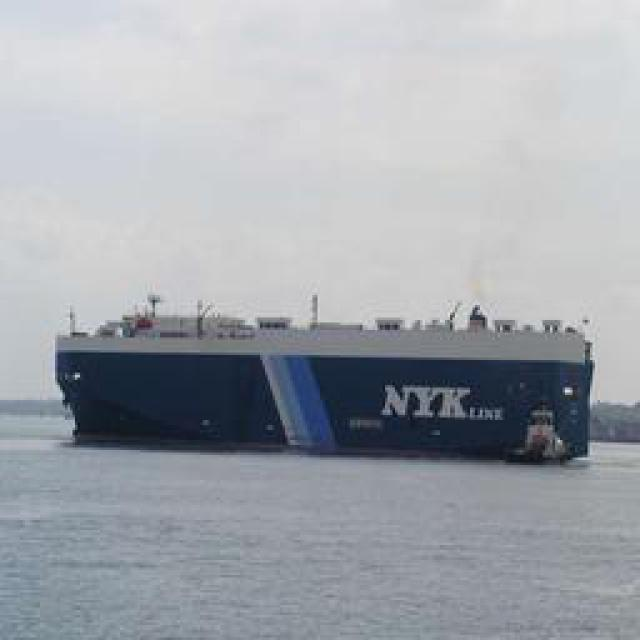Ship: (50, 281, 598, 466)
